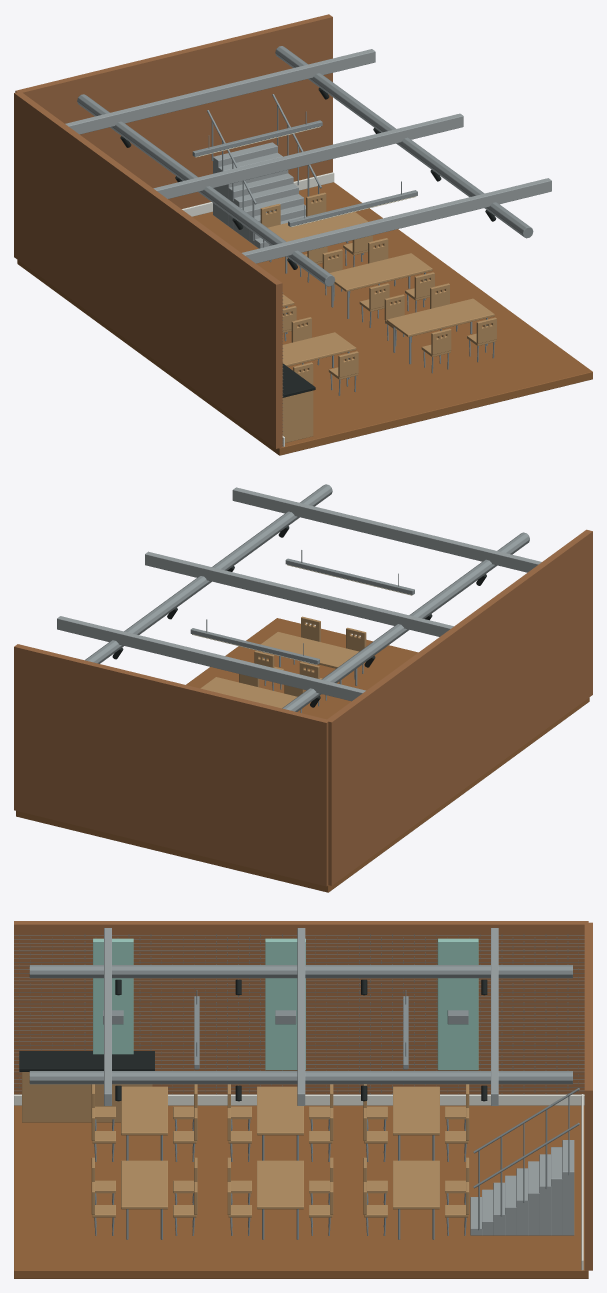
Rendered from col-interior.glb.
3 views of the same model, one above another, from view 1: azimuth 30°, elevation 25°; view 2: azimuth 150°, elevation 25°; view 3: azimuth 270°, elevation 25° (orthographic). The views are drawn at different scales.
Parts seen in each view (by area): view 1: COL_INTERIOR; view 2: COL_INTERIOR; view 3: COL_INTERIOR.
Boxes of the visible parts, x1=… form: COL_INTERIOR: x1=14, y1=14, x2=592, y2=455; COL_INTERIOR: x1=14, y1=484, x2=592, y2=892; COL_INTERIOR: x1=14, y1=921, x2=592, y2=1278.
Bounding box in the file's own units: 7.68 × 3.98 × 11.08.
